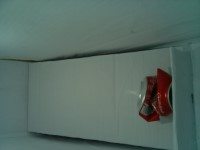kaleng: (136, 68, 173, 124)
